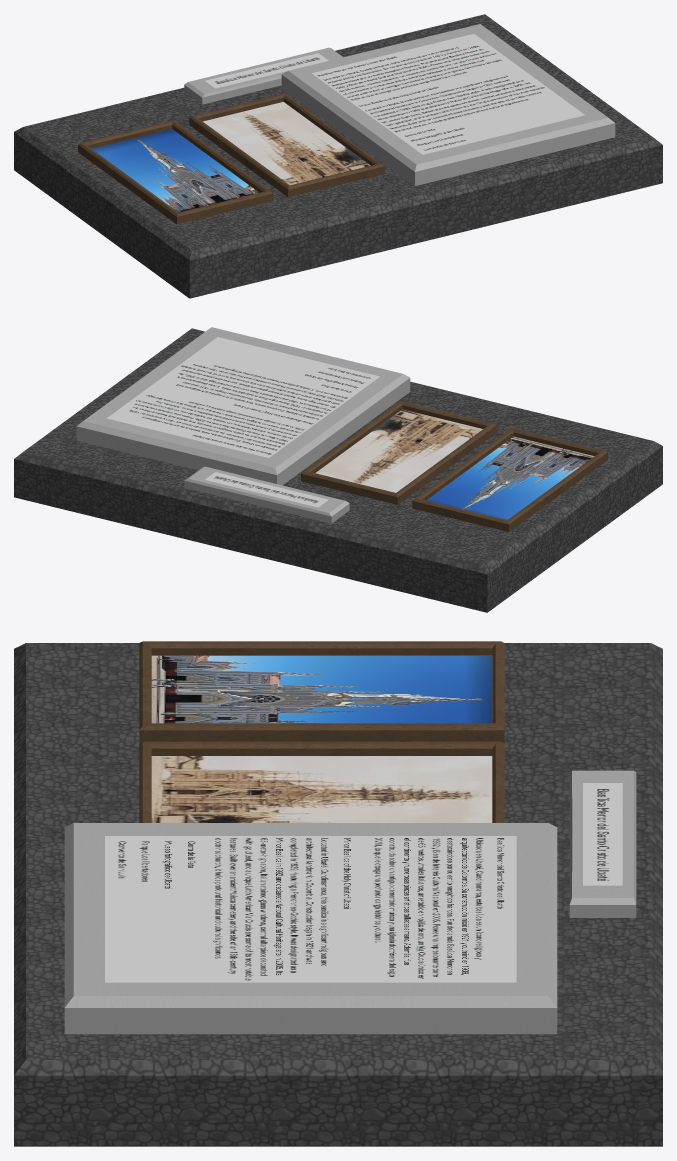
File: proyecto_cultura.glb
3 renders of one model, top to bottom at view 1: azimuth 30°, elevation 25°; view 2: azimuth 150°, elevation 25°; view 3: azimuth 270°, elevation 25°, orthographic. The views are drawn at different scales.
Parts seen in each view (by area): view 1: Cube.002; view 2: Cube.002; view 3: Cube.002.
Part boxes in pixels (x1=…): Cube.002: x1=14, y1=14, x2=662, y2=298; Cube.002: x1=14, y1=327, x2=662, y2=612; Cube.002: x1=14, y1=641, x2=662, y2=1146.
Size of the model in its own units: 2.22 by 0.2815 by 1.43.
5 materials, 5 textured.
